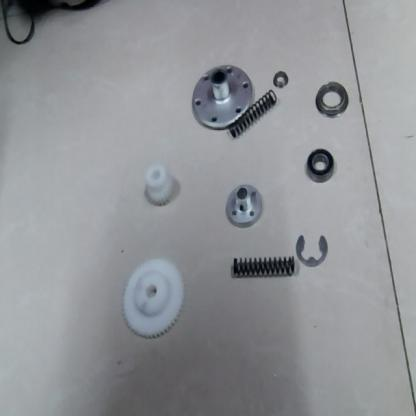FOD: (119, 258, 186, 344), (188, 62, 254, 134), (222, 89, 279, 141), (228, 251, 295, 281), (226, 180, 263, 232), (144, 158, 178, 209), (313, 82, 351, 116), (296, 229, 327, 267), (304, 145, 334, 183), (270, 66, 293, 88)
